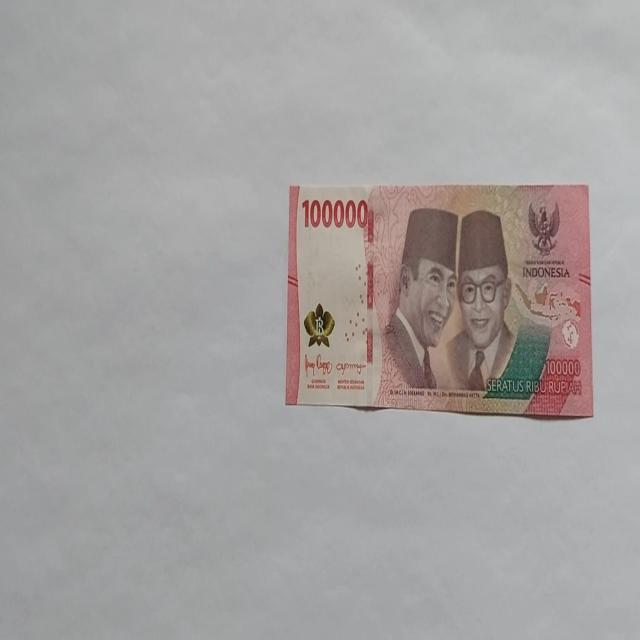seratus ribu rupiah: (285, 181, 593, 418)
